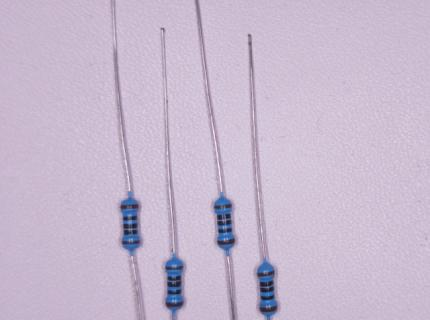Black band: (260, 280, 274, 287), (167, 289, 182, 295), (217, 214, 231, 220), (218, 220, 232, 226), (260, 286, 274, 292), (261, 294, 275, 300), (167, 275, 181, 281), (167, 281, 181, 287), (123, 216, 138, 221), (123, 223, 138, 228), (124, 230, 138, 235), (218, 228, 232, 233)
Brown band: (259, 304, 278, 312), (165, 300, 184, 307), (217, 238, 236, 245), (257, 270, 275, 277), (120, 204, 139, 209), (121, 240, 140, 245), (214, 204, 233, 209), (165, 265, 183, 270)
